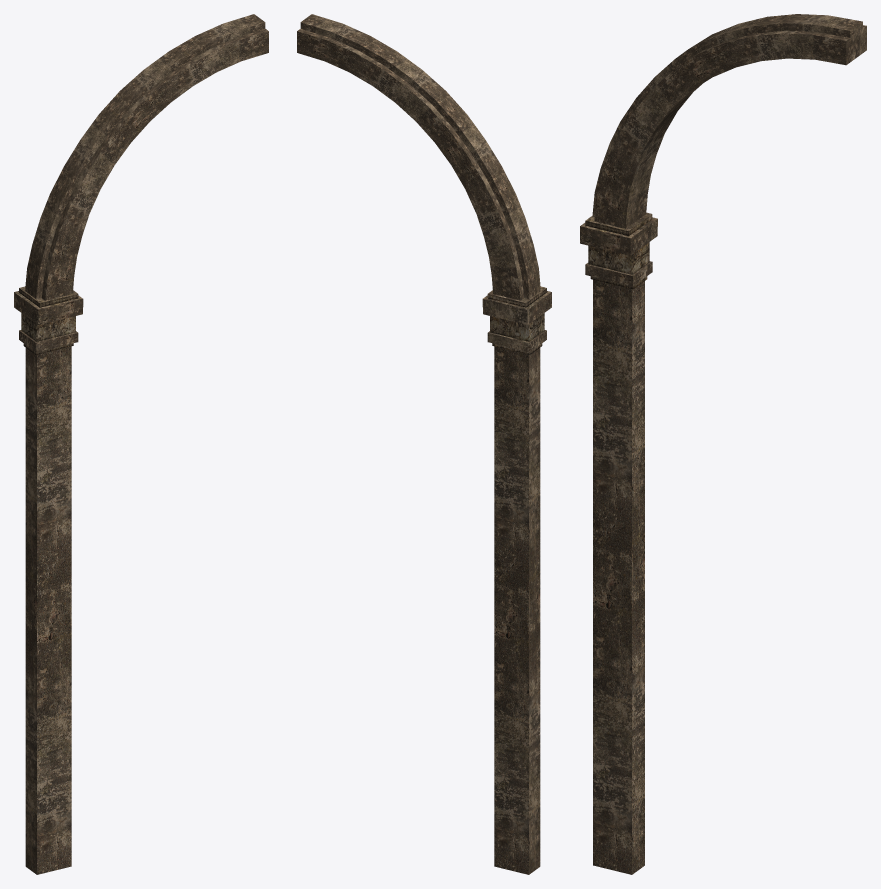
File: materials_5_arch_29.fbx
3 renders of one model, left to right at view 1: azimuth 30°, elevation 25°; view 2: azimuth 150°, elevation 25°; view 3: azimuth 330°, elevation 25°, orthographic. The views are drawn at different scales.
Visible parts, largest first — view 1: materials_5_arch_29; view 2: materials_5_arch_29; view 3: materials_5_arch_29.
Boxes of the visible parts, x1,y1,x2,y2 form: materials_5_arch_29: (14,14,268,874); materials_5_arch_29: (297,14,551,874); materials_5_arch_29: (580,14,866,874).
Size of the model in its own units: 91.4 by 298 by 16.38.
